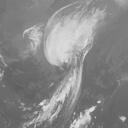cyclone: (43, 20, 95, 68)
